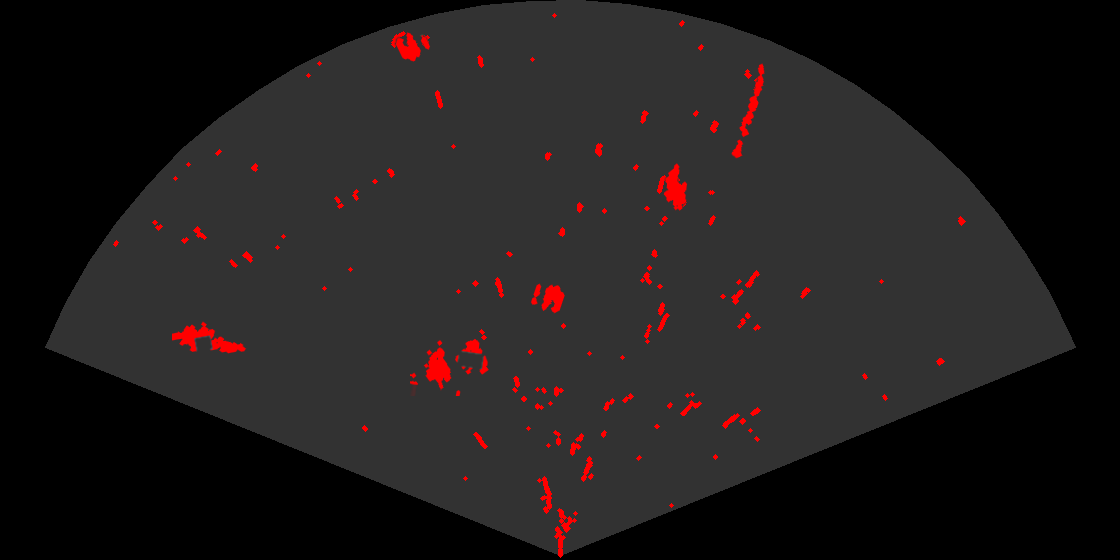AUV: (662, 162, 689, 212)
ball: (529, 282, 566, 315), (394, 31, 432, 63)
cage: (410, 337, 490, 396)
chain: (730, 62, 766, 160)
frogman: (172, 320, 247, 355)
